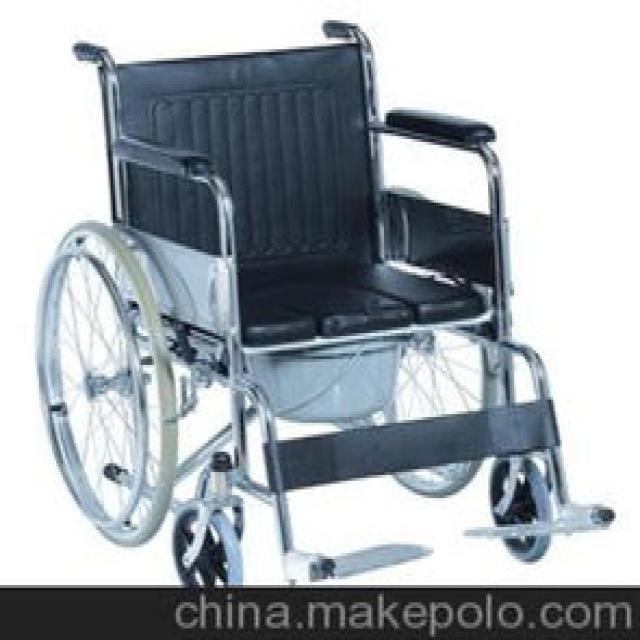wheelchair: (35, 17, 625, 585)
